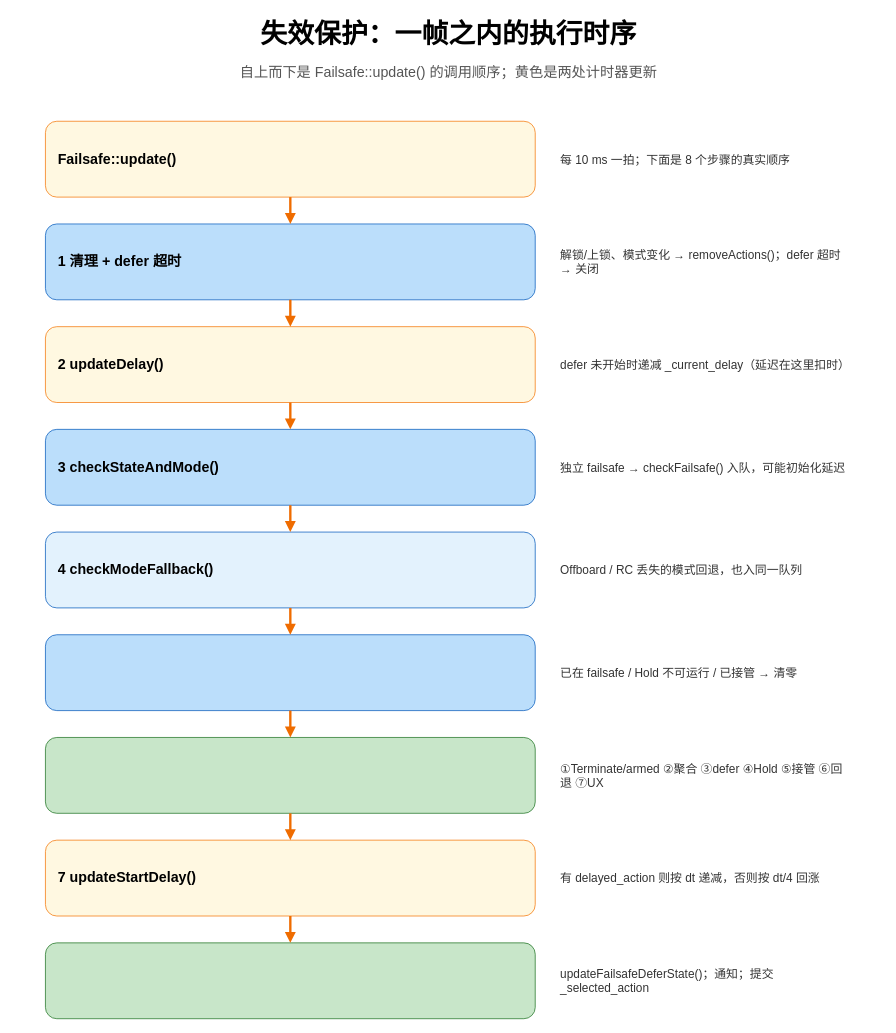
Some shapes in this 896 by 1033 pixel diagram are drawn without their labels. Each missing label, with the centre of its shape:
5 清理失效条目 + clearDelayIfNeeded(): the point at 290,672
6 getSelectedAction() 七阶段: the point at 290,775
8 defer 状态 + 通知 + 提交: the point at 290,980
